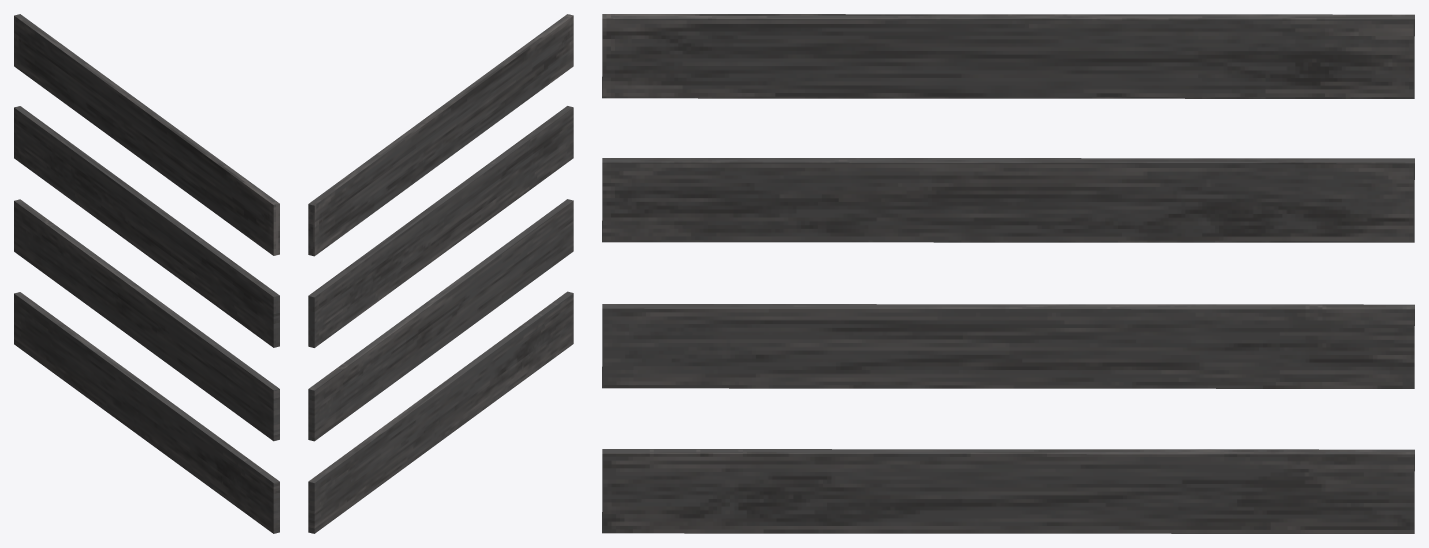
Rendered from b_planks.fbx.
3 renders of one model, left to right at view 1: azimuth 30°, elevation 25°; view 2: azimuth 150°, elevation 25°; view 3: azimuth 270°, elevation 25°, orthographic. The views are drawn at different scales.
Visible parts, largest first — view 1: b_plank3, b_plank1, b_plank2, b_plank4; view 2: b_plank1, b_plank3, b_plank2, b_plank4; view 3: b_plank3, b_plank1, b_plank2, b_plank4.
Part boxes in pixels (x1,y1,x2,y2): b_plank3: [14, 292, 279, 533]; b_plank1: [14, 106, 279, 347]; b_plank2: [14, 14, 279, 255]; b_plank4: [14, 199, 279, 441]; b_plank1: [308, 106, 573, 347]; b_plank3: [308, 291, 573, 533]; b_plank2: [308, 14, 573, 256]; b_plank4: [308, 199, 573, 441]; b_plank3: [602, 449, 1414, 533]; b_plank1: [602, 158, 1414, 242]; b_plank2: [602, 14, 1414, 98]; b_plank4: [602, 304, 1414, 388].
Size of the model in its own units: 0.0708 by 3.52 by 5.04.
